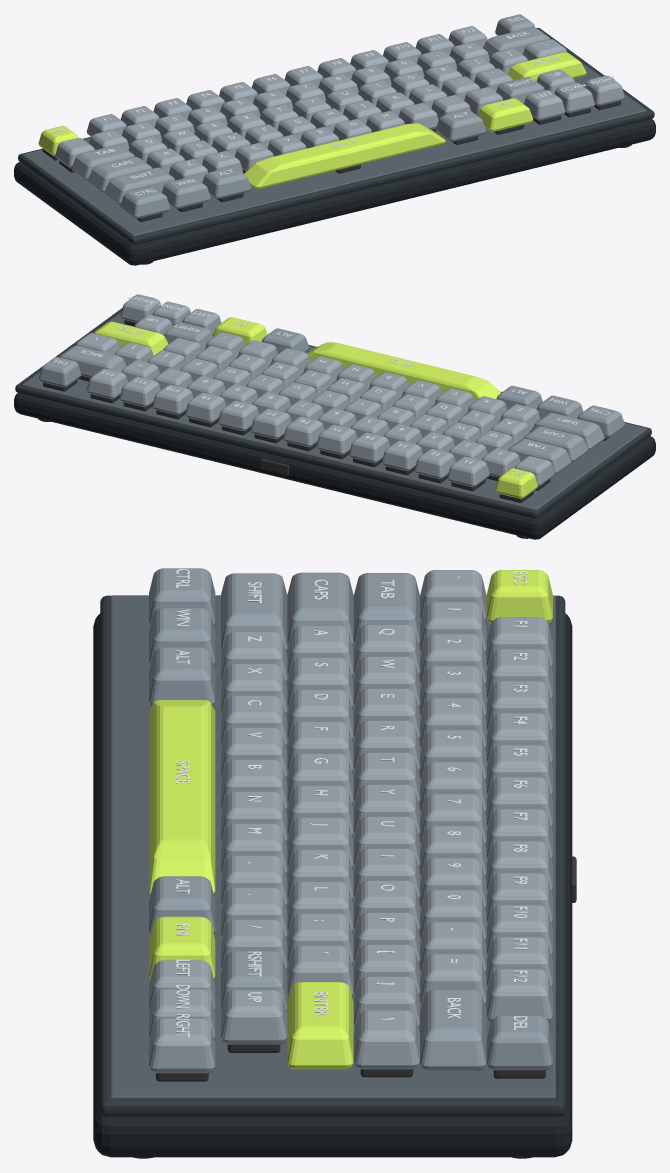
File: mechanical-keyboard.glb
3 views of the same model, one above another, from view 1: azimuth 30°, elevation 25°; view 2: azimuth 150°, elevation 25°; view 3: azimuth 270°, elevation 25° (orthographic). The views are drawn at different scales.
Visible parts, largest first — view 1: CASE | Main, PLATE | Main, CASE | Upper Frame, Key_SPACE, Key_ENTER, Key_FN, Key_SHIFT, Key_ALT.001, Key_CTRL, Key_ALT, Key_WIN, Key_CAPS (+68 smaller); view 2: CASE | Main, CASE | Upper Frame, PLATE | Main, Key_SPACE, Key_BACK, Key_ENTER, Key_SHIFT, Key_TAB, Key_CAPS, Key_ESC, Key_DEL, Key_F1 (+68 smaller); view 3: PLATE | Main, CASE | Main, CASE | Upper Frame, Key_SPACE, Key_ENTER, Key_BACK, Key_SHIFT, Key_\, Key_CAPS, Key_RIGHT, Key_UP, Key_DEL (+68 smaller).
Boxes of the visible parts, box(x1,y1,x2,y2) form: CASE | Main: box(14, 119, 655, 265); PLATE | Main: box(23, 52, 647, 235); CASE | Upper Frame: box(18, 27, 654, 244); Key_SPACE: box(244, 123, 445, 189); Key_ENTER: box(507, 52, 586, 81); Key_FN: box(477, 98, 533, 131); Key_SHIFT: box(104, 167, 175, 204); Key_ALT.001: box(436, 109, 485, 141); Key_CTRL: box(120, 186, 170, 218); Key_ALT: box(202, 167, 251, 198); Key_WIN: box(162, 176, 210, 208); Key_CAPS: box(88, 157, 152, 192); CASE | Main: box(14, 393, 655, 539); CASE | Upper Frame: box(15, 308, 651, 518); PLATE | Main: box(22, 312, 646, 509); Key_SPACE: box(307, 342, 500, 401); Key_BACK: box(60, 345, 126, 377); Key_ENTER: box(94, 321, 168, 355); Key_SHIFT: box(531, 412, 604, 450); Key_TAB: box(508, 438, 571, 474); Key_CAPS: box(523, 426, 588, 462); Key_ESC: box(495, 468, 537, 498); Key_DEL: box(39, 357, 81, 387); Key_F1: box(447, 456, 489, 487); PLATE | Main: box(110, 595, 555, 1098); CASE | Main: box(93, 613, 572, 1157); CASE | Upper Frame: box(100, 595, 565, 1116); Key_SPACE: box(149, 700, 215, 894); Key_ENTER: box(287, 982, 353, 1069); Key_BACK: box(420, 989, 486, 1070); Key_SHIFT: box(221, 573, 287, 651); Key_\: box(353, 1010, 419, 1069); Key_CAPS: box(287, 572, 353, 645); Key_RIGHT: box(149, 1018, 215, 1073); Key_UP: box(221, 989, 287, 1044); Key_DEL: box(486, 1015, 552, 1070).
Bounding box in the file's own units: 15.8 × 1.66 × 6.25.
